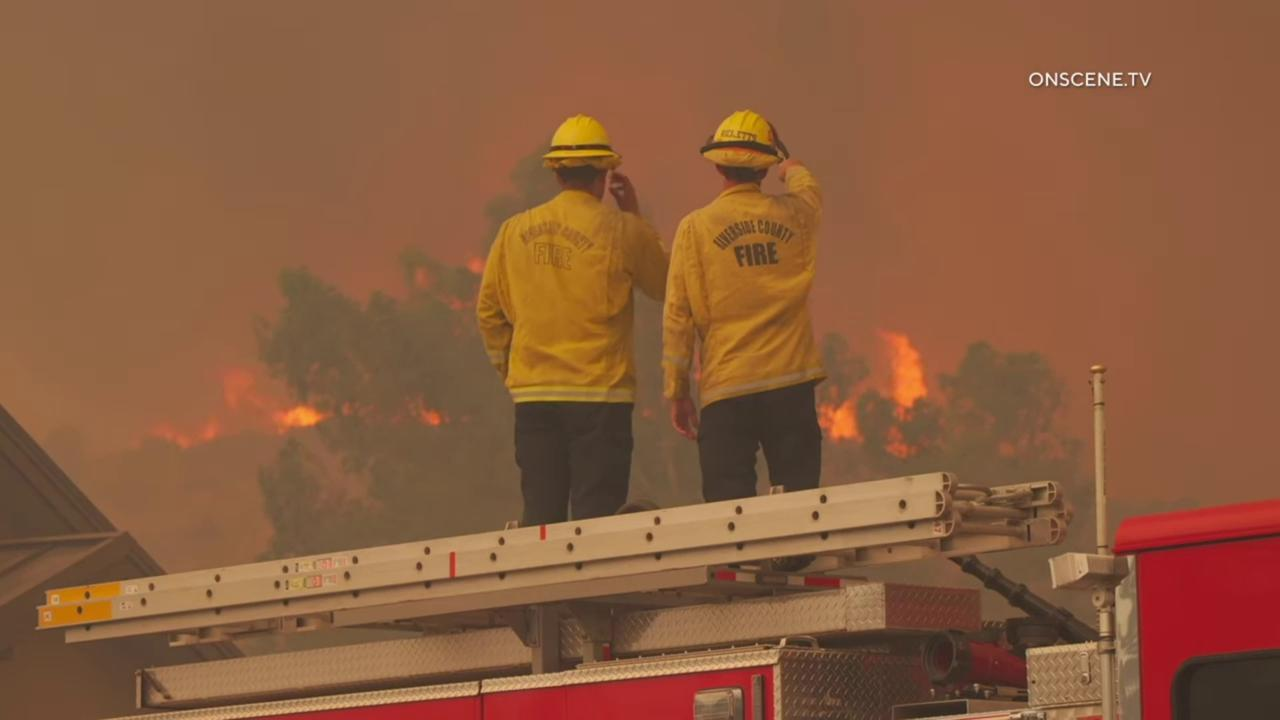fire: (124, 358, 340, 459), (801, 328, 931, 457), (411, 254, 488, 311), (394, 392, 445, 431)
smoke: (0, 0, 1280, 578)
